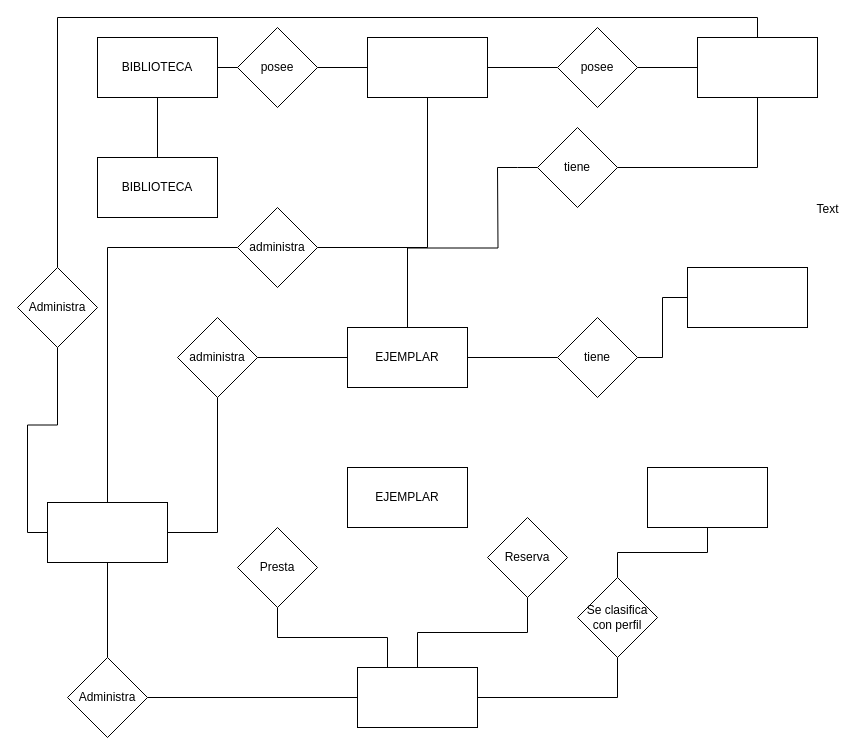
This 865x755 diagram has some shape labels left out. Each missing label, with the centre of its shape:
"COLECCION" goes at (x=427, y=67).
"EMPLEADO" goes at (x=107, y=532).
"ESTADO" goes at (x=747, y=297).
"PERFIL" goes at (x=707, y=497).
"RECURSO" goes at (x=757, y=67).
"SOCIO" goes at (x=417, y=697).
